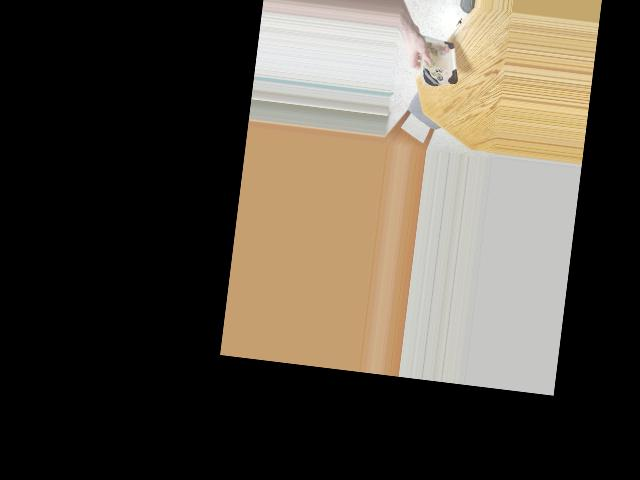cheese: (414, 27, 460, 90)
